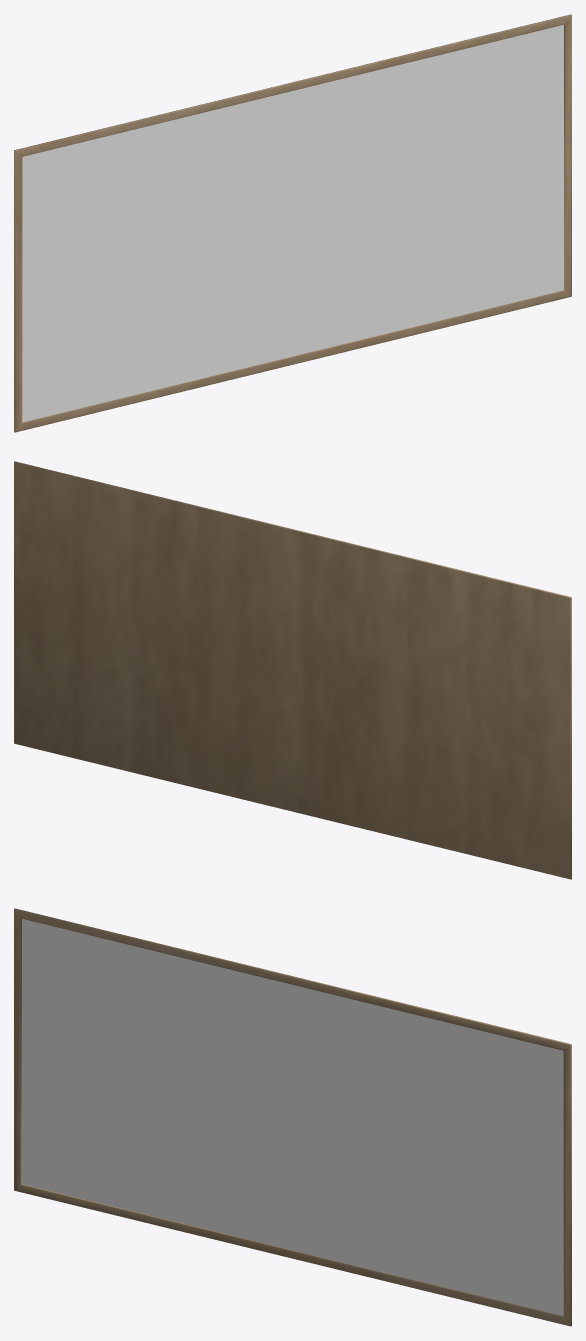
The model's file is papanTulis.glb.
3 renders of one model, top to bottom at view 1: azimuth 30°, elevation 25°; view 2: azimuth 150°, elevation 25°; view 3: azimuth 330°, elevation 25°, orthographic.
Visible parts, largest first — view 1: Blackboard_Q; view 2: Blackboard_Q; view 3: Blackboard_Q.
Boxes of the visible parts, left/top/right/bottom form: Blackboard_Q: left=14, top=14, right=571, bottom=432; Blackboard_Q: left=14, top=461, right=571, bottom=879; Blackboard_Q: left=14, top=908, right=571, bottom=1326.
Bounding box in the file's own units: 3.62 × 1.75 × 0.0114.
1 material, 1 textured.
